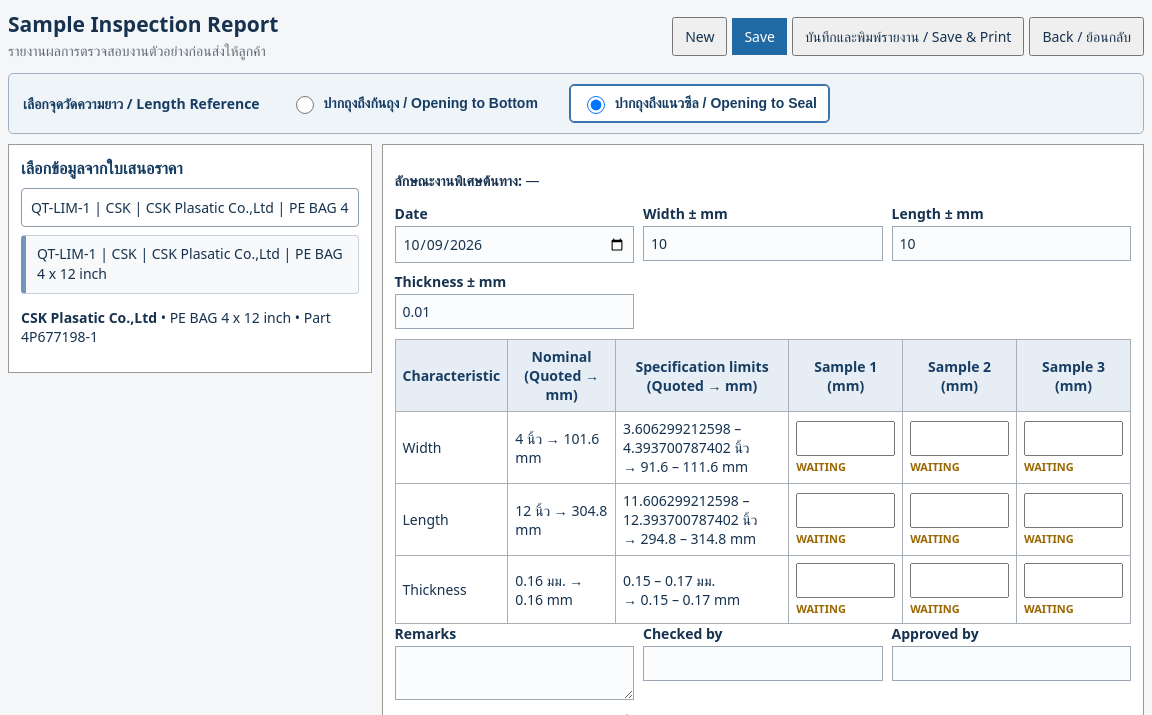
Test: sample inspection limits on screen › a reading just past the limit still shows FAIL
The width and height of the screenshot is (1152, 715).
Type "0.171" into the 7th number field.
click(846, 580); type("0.171")  # box left=796, top=563, right=895, bottom=598
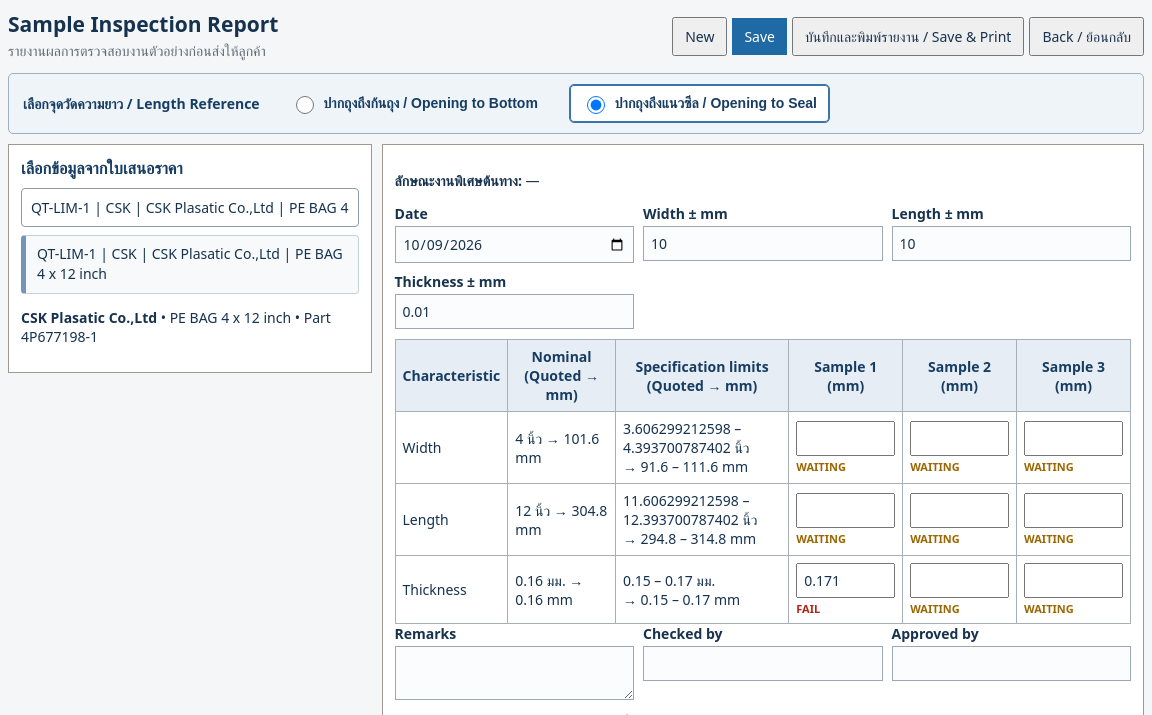
Expected: the text "FAIL" is shown, left=796, top=601, right=820, bottom=616
